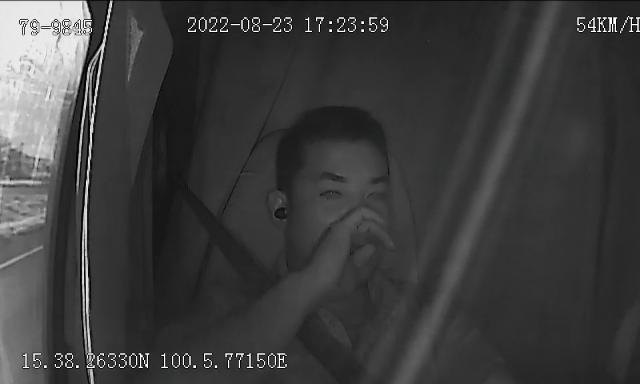SafeDriving: (314, 176, 348, 204)
Seatbelt: (183, 184, 369, 384)
